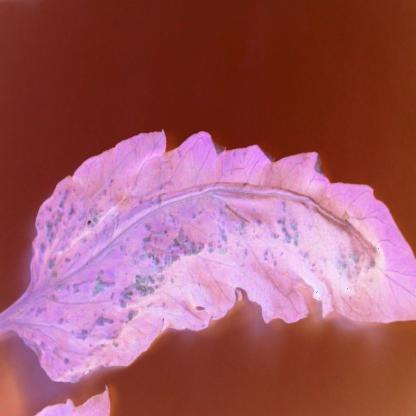tomato mold leaf: (0, 102, 413, 392)
